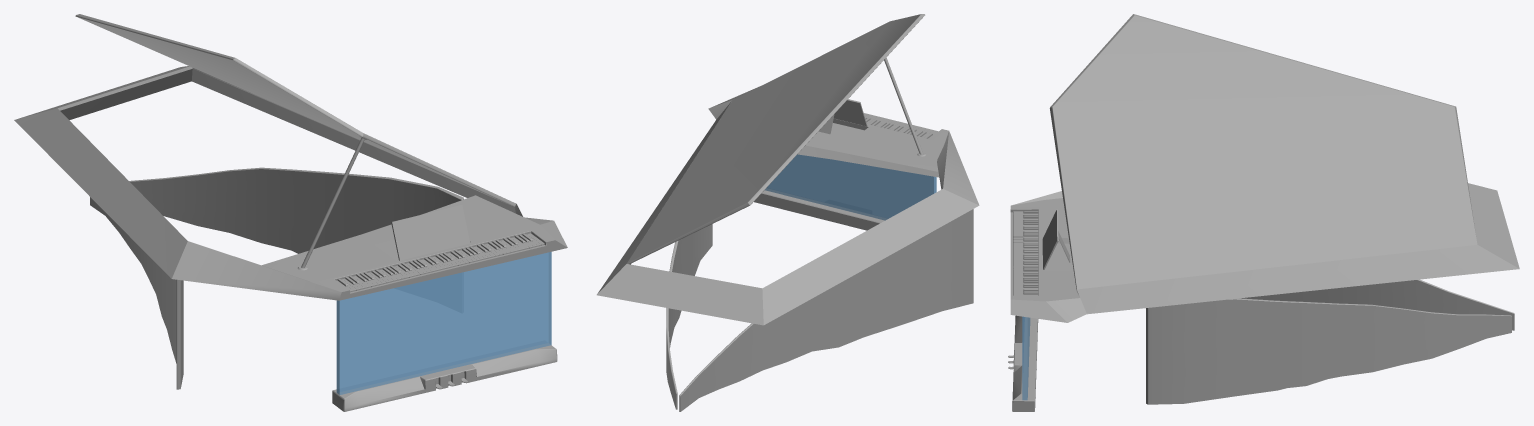
File: piano_SM.fbx
3 views of the same model, side by side, from view 1: azimuth 30°, elevation 25°; view 2: azimuth 150°, elevation 25°; view 3: azimuth 270°, elevation 25° (orthographic). The views are drawn at different scales.
Visible parts, largest first — view 1: piano_SM; view 2: piano_SM; view 3: piano_SM.
Boxes of the visible parts, bbox=[...] form: piano_SM: bbox=[14, 14, 567, 411]; piano_SM: bbox=[597, 14, 979, 411]; piano_SM: bbox=[1008, 14, 1519, 411].
Bounding box in the file's own units: 291 × 259 × 413.
